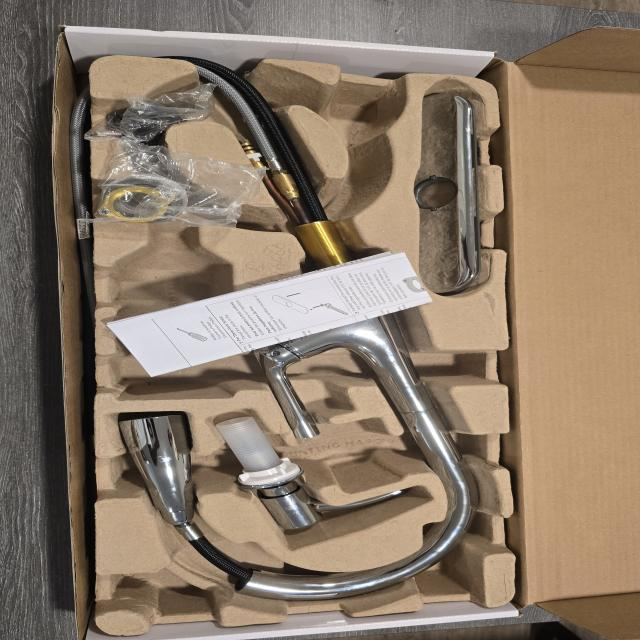1o: (120, 57, 481, 600)
2: (216, 415, 406, 531)
3m: (112, 222, 233, 400)
4: (413, 93, 480, 294)
5m: (324, 89, 402, 143)
6: (77, 138, 275, 228)
7: (81, 81, 220, 142)
8: (103, 250, 435, 379)
